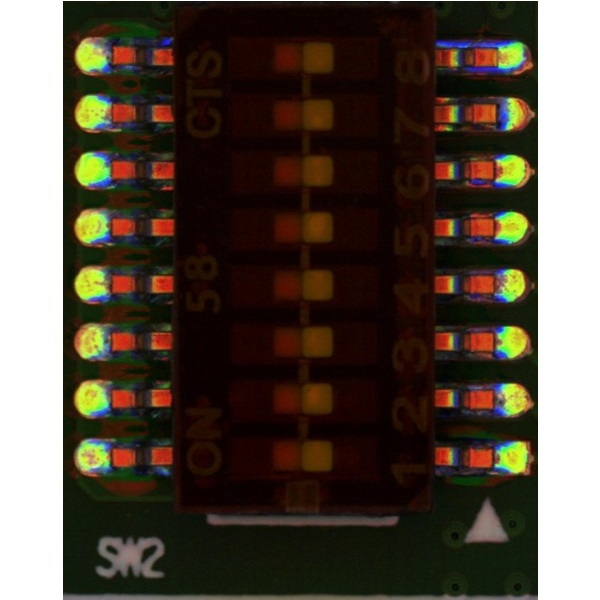Bad_podu: (487, 162, 502, 178), (490, 47, 504, 64), (487, 218, 501, 234)
